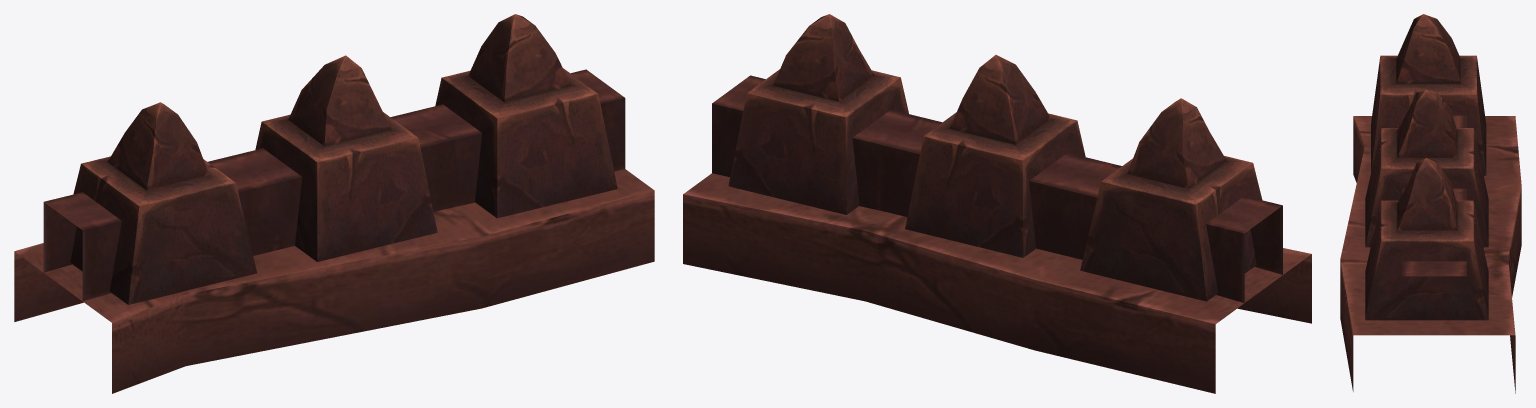
The model's file is lava_railing_straight_01.fbx.
3 views of the same model, side by side, from view 1: azimuth 30°, elevation 25°; view 2: azimuth 150°, elevation 25°; view 3: azimuth 270°, elevation 25° (orthographic). The views are drawn at different scales.
Visible parts, largest first — view 1: lava_railing_straight_01-0; view 2: lava_railing_straight_01-0; view 3: lava_railing_straight_01-0.
Boxes of the visible parts, <box> form: lava_railing_straight_01-0: <box>14,14,654,393</box>; lava_railing_straight_01-0: <box>683,14,1311,393</box>; lava_railing_straight_01-0: <box>1340,14,1521,393</box>.
Size of the model in its own units: 4 by 1.68 by 1.4.
